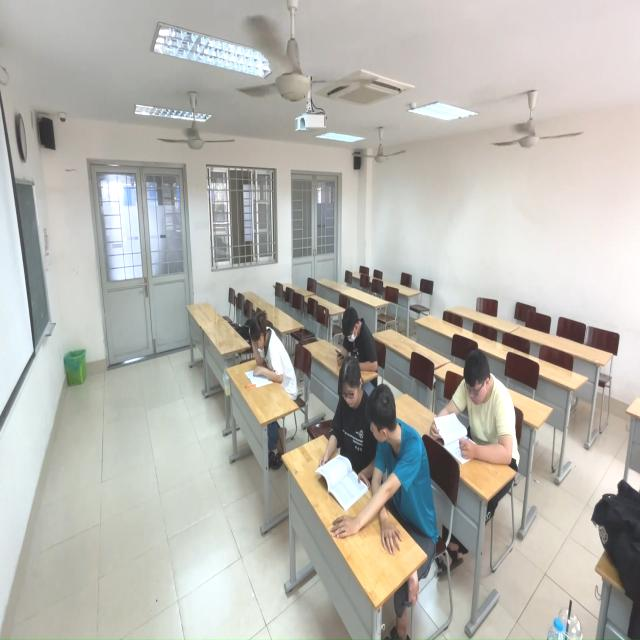read: (360, 384, 433, 548), (429, 345, 523, 472), (319, 355, 372, 487), (245, 302, 297, 401), (336, 306, 378, 368)
